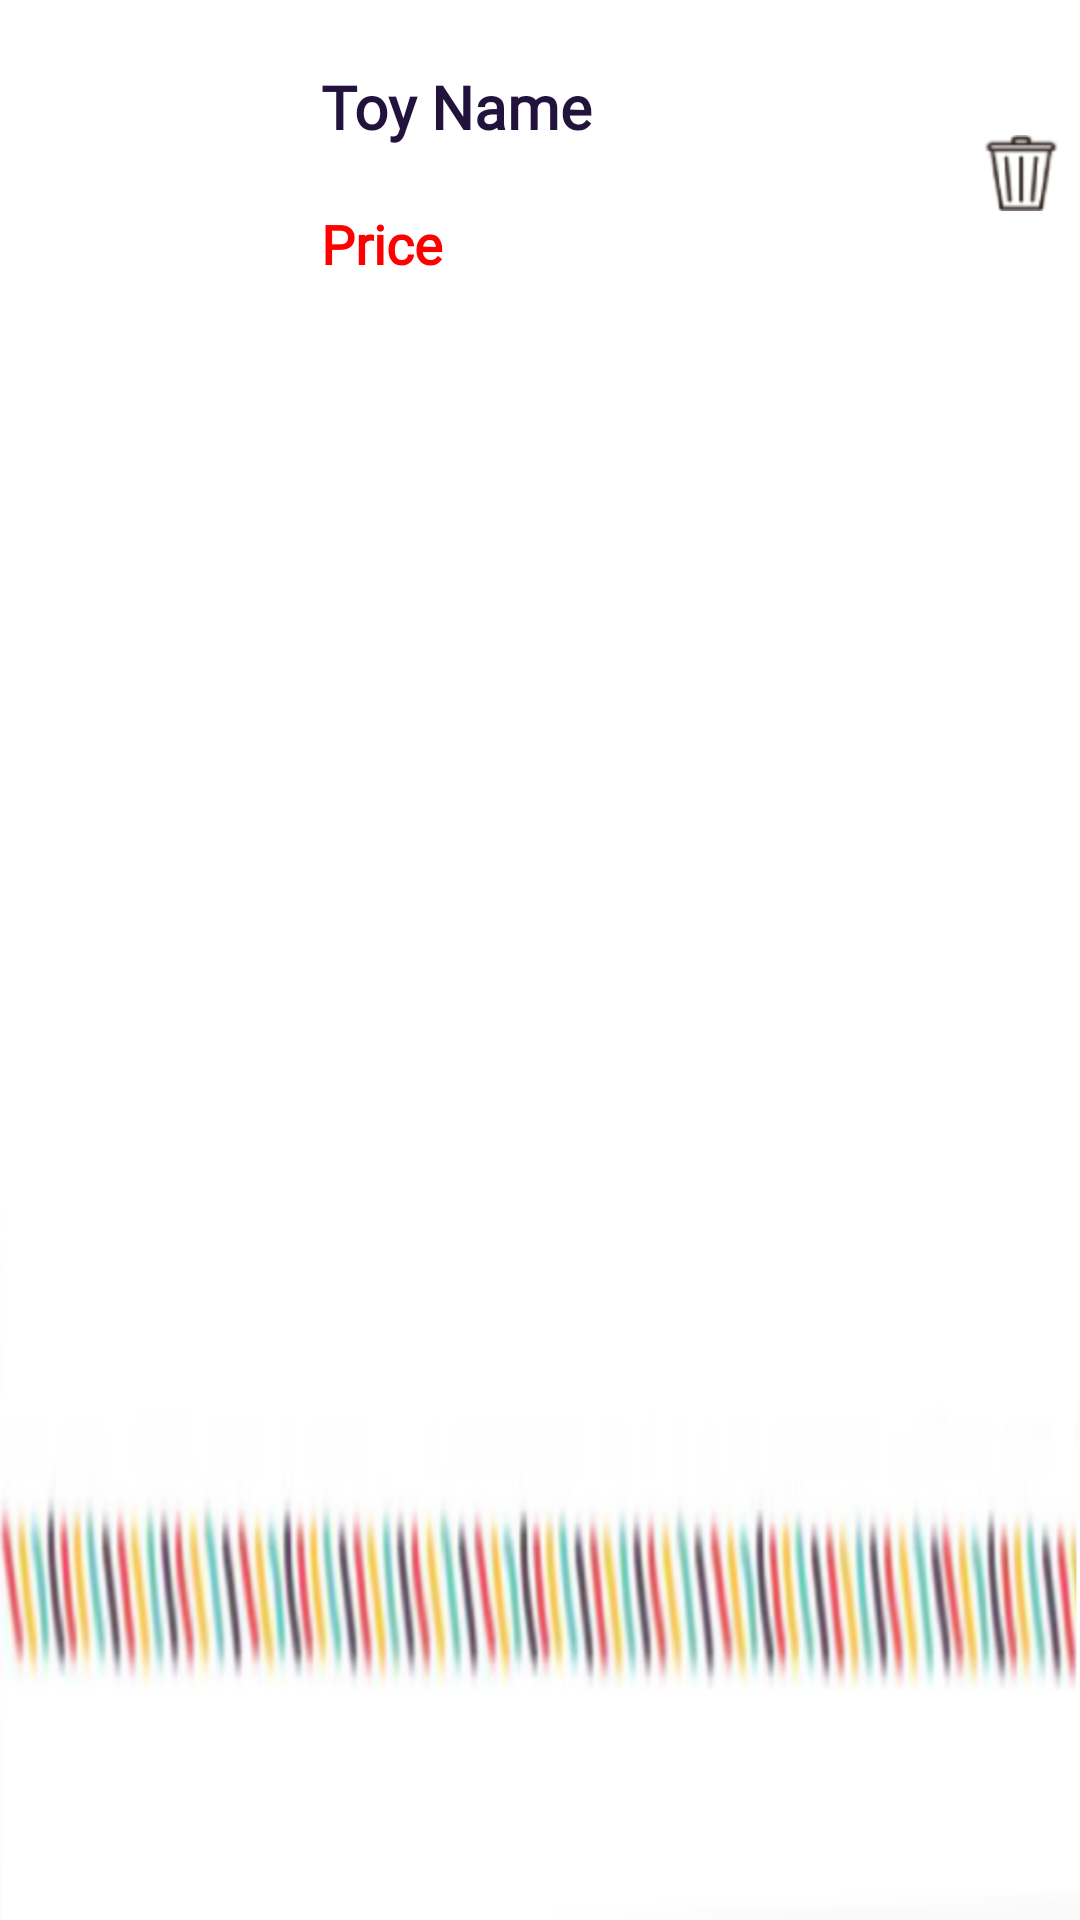

Screen size 1080w x 1920h. Icon name, then its center in pixels as point (x, y):
trashcan: point (1021, 173)
